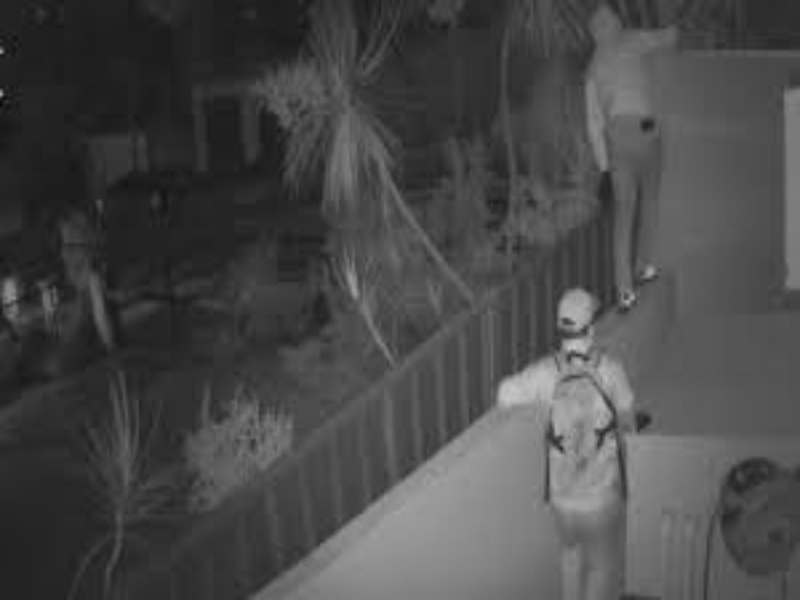person: (492, 283, 660, 600), (571, 3, 684, 317)
